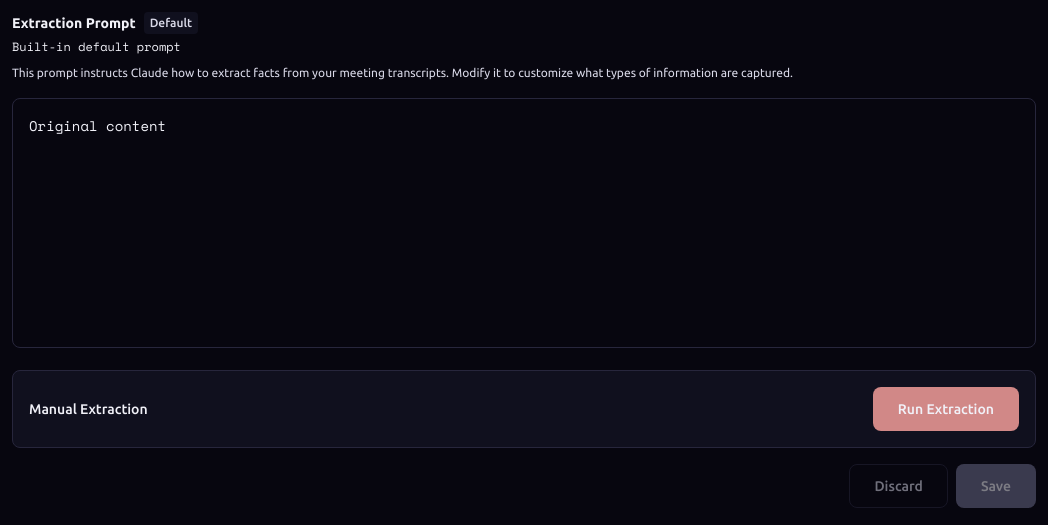
Test: ExtractionPromptEditor › editing › discards changes when Discard button is clicked
// Edit content
Replace the text in the text box with "Changed content". click: (524, 223)
box: [12,98,1036,348]
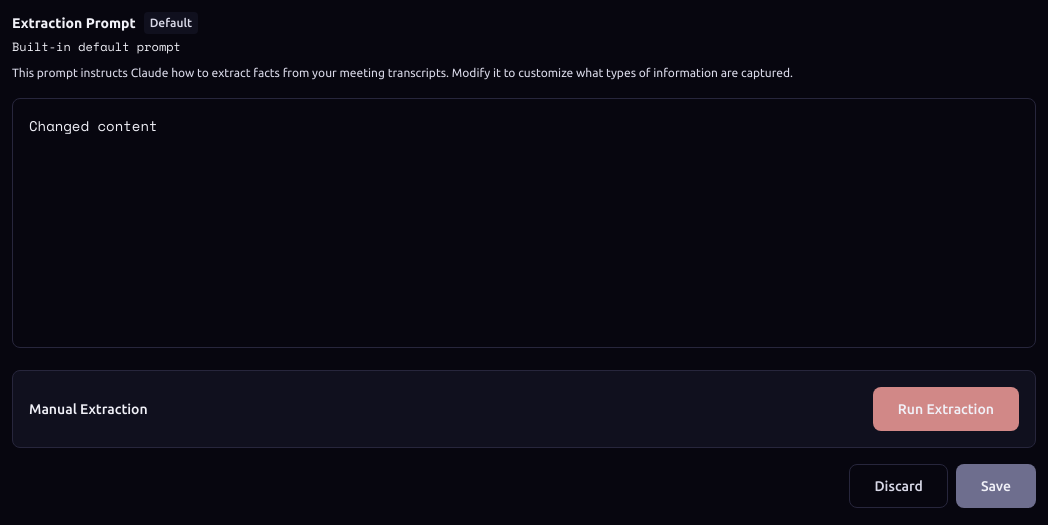
// Click discard
Click the button "Discard". click: (899, 486)
box: [850,464,948,508]
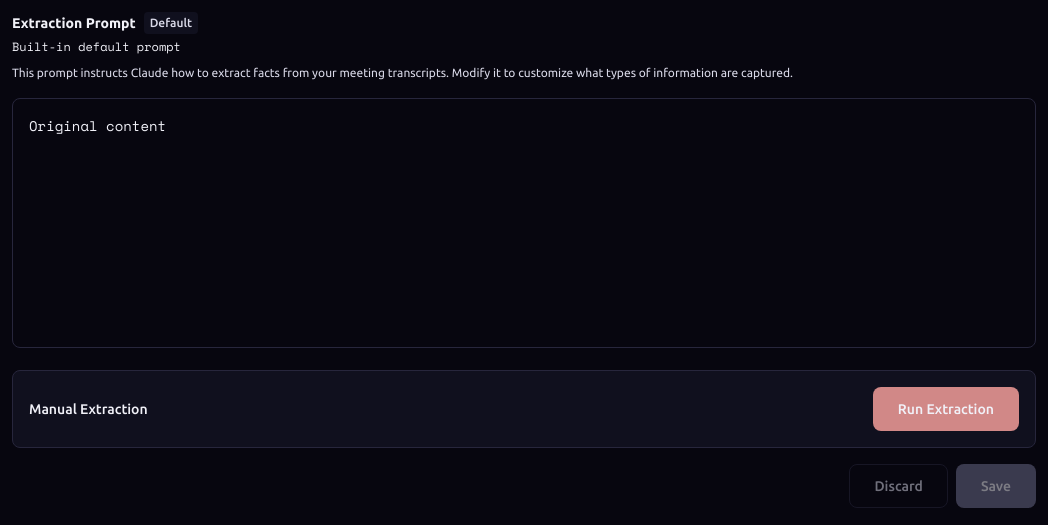
Result: the text box holds "Original content" at [12,98,1036,348]
